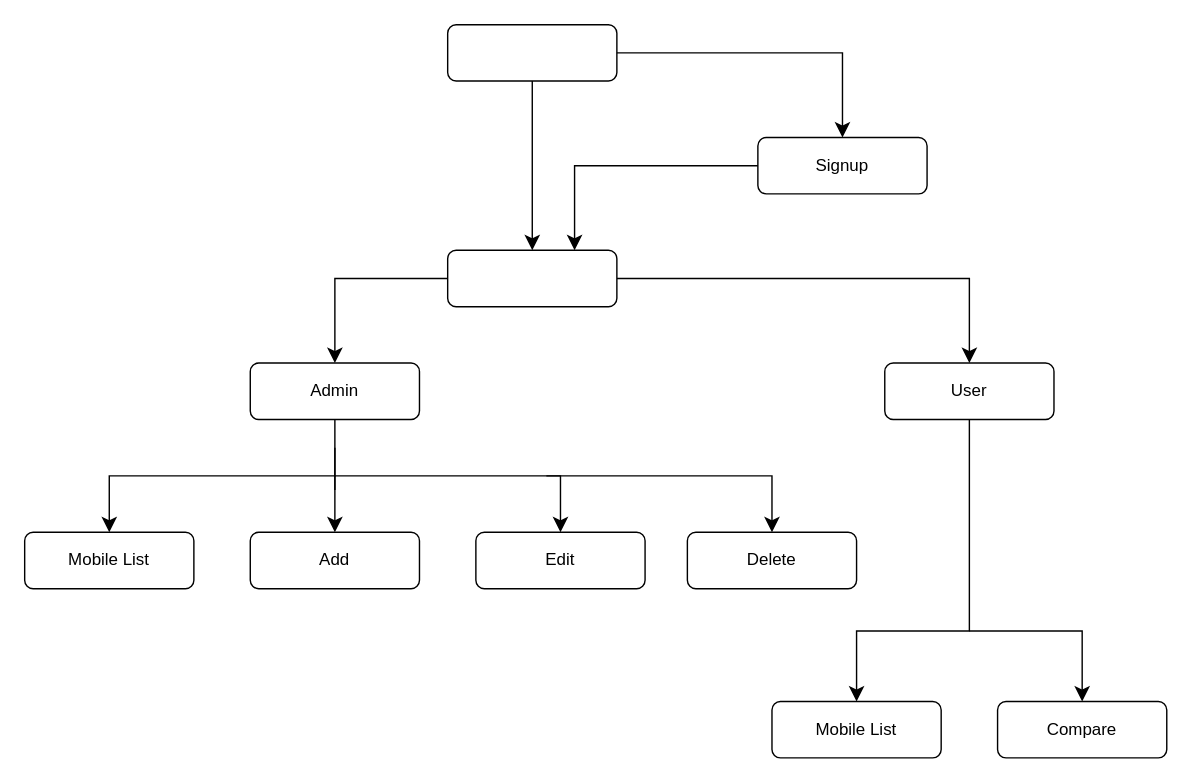
Some shapes in this 1191 by 783 pixel diagram are drawn without their labels. Each missing label, with the centre of its shape:
Login: point (531, 278)
Web App: point (531, 52)
